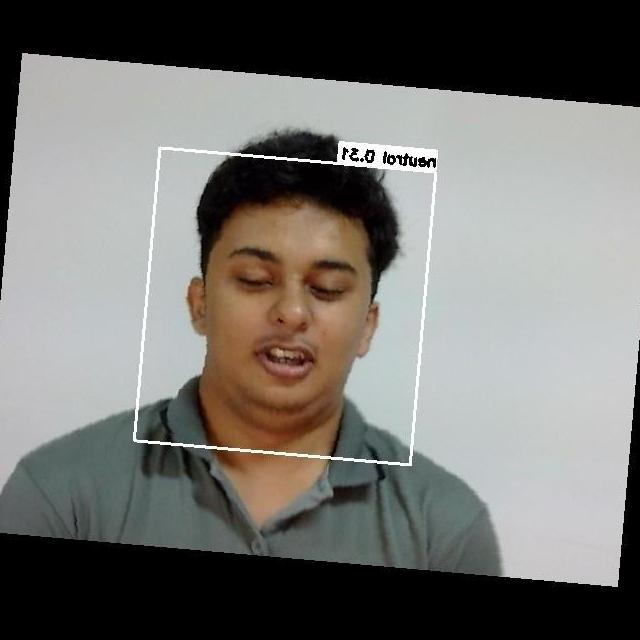Fear: (200, 225, 374, 411)
